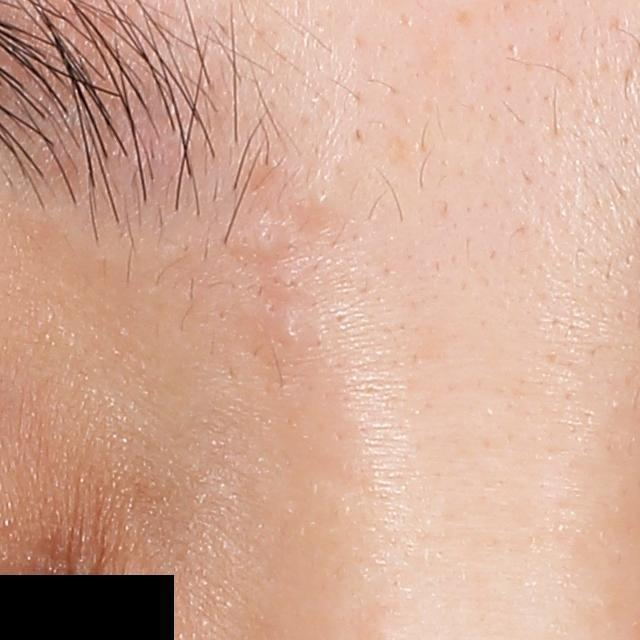comedo: (256, 230, 279, 256), (311, 189, 325, 210)
